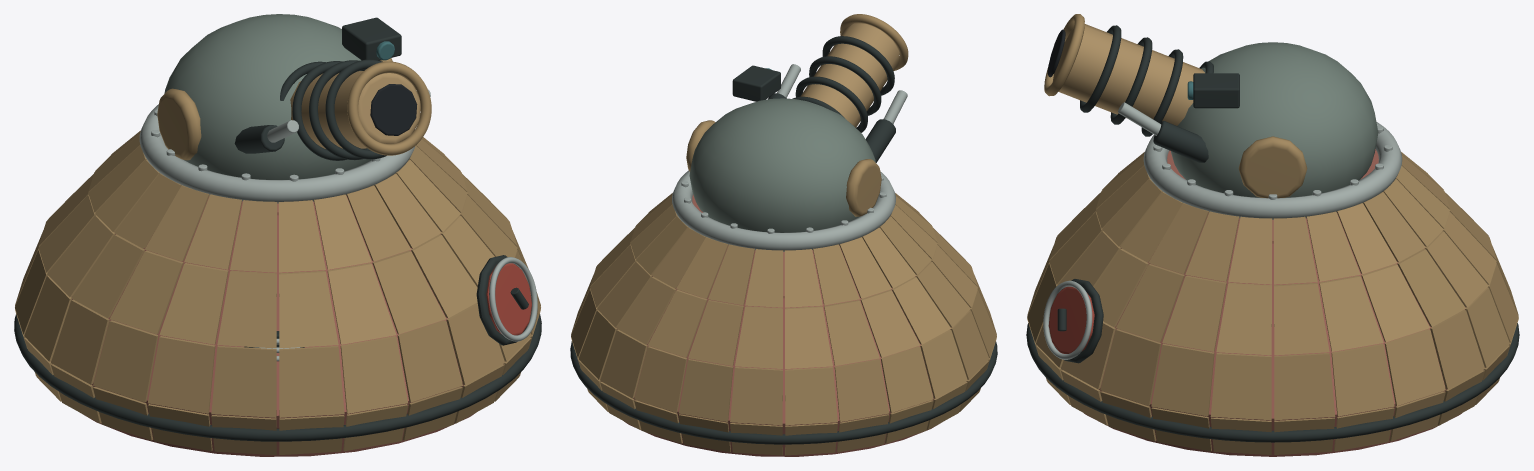
3 renders of one model, left to right at view 1: azimuth 30°, elevation 25°; view 2: azimuth 150°, elevation 25°; view 3: azimuth 270°, elevation 25°, orthographic. The views are drawn at different scales.
Parts seen in each view (by area): view 1: Armoured pedestal sectors, Weapon pivot, Pedestal foundation joint, Azimuth race flange, Turret armoured pedestal, Weapon barrel, Muzzle locking ring, Trunnion left, Pedestal systems hatch lid, Weapon dark bore, Head rangefinder, Barrel heat-sink collar.003 (+5 smaller); view 2: Armoured pedestal sectors, Weapon pivot, Azimuth race flange, Pedestal foundation joint, Weapon barrel, Turret armoured pedestal, Trunnion left, Head rangefinder, Muzzle locking ring, Barrel heat-sink collar.002, Barrel heat-sink collar.003, Barrel heat-sink collar.001 (+2 smaller); view 3: Armoured pedestal sectors, Weapon pivot, Weapon barrel, Azimuth race flange, Pedestal foundation joint, Turret armoured pedestal, Trunnion right, Pedestal systems hatch lid, Head rangefinder, Elevation actuator body.001, Muzzle locking ring, Pedestal systems hatch rim (+5 smaller).
Boxes of the visible parts, x1,y1,x2,y2 form: Armoured pedestal sectors: [15, 130, 540, 454]; Weapon pivot: [164, 14, 371, 179]; Pedestal foundation joint: [14, 314, 541, 441]; Azimuth race flange: [139, 104, 415, 203]; Turret armoured pedestal: [52, 196, 503, 456]; Weapon barrel: [290, 71, 420, 148]; Muzzle locking ring: [347, 61, 431, 155]; Trunnion left: [157, 88, 201, 160]; Pedestal systems hatch lid: [486, 263, 531, 335]; Weapon dark bore: [370, 84, 417, 135]; Head rangefinder: [342, 17, 401, 60]; Barrel heat-sink collar.003: [325, 59, 386, 159]; Armoured pedestal sectors: [571, 193, 996, 455]; Weapon pivot: [689, 98, 875, 232]; Azimuth race flange: [672, 170, 895, 251]; Pedestal foundation joint: [570, 341, 997, 444]; Weapon barrel: [800, 23, 899, 127]; Turret armoured pedestal: [601, 194, 966, 456]; Trunnion left: [846, 159, 881, 216]; Head rangefinder: [732, 65, 780, 101]; Muzzle locking ring: [840, 14, 908, 70]; Barrel heat-sink collar.002: [809, 56, 881, 115]; Barrel heat-sink collar.003: [822, 36, 894, 95]; Barrel heat-sink collar.001: [795, 76, 867, 132]; Armoured pedestal sectors: [1027, 152, 1518, 454]; Weapon pivot: [1171, 42, 1378, 197]; Weapon barrel: [1052, 24, 1204, 125]; Azimuth race flange: [1143, 122, 1402, 219]; Pedestal foundation joint: [1026, 323, 1519, 442]; Turret armoured pedestal: [1060, 149, 1485, 456]; Trunnion right: [1238, 136, 1307, 198]; Pedestal systems hatch lid: [1048, 286, 1094, 353]; Head rangefinder: [1193, 73, 1239, 108]; Elevation actuator body.001: [1153, 121, 1208, 162]; Muzzle locking ring: [1044, 14, 1084, 96]; Pedestal systems hatch rim: [1043, 280, 1092, 359].
Size of the model in its own units: 2.01 by 1.55 by 2.01.
